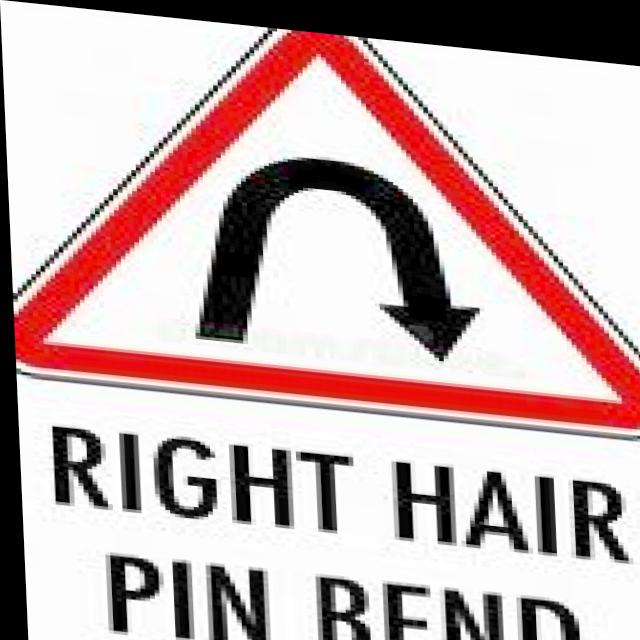RIGHT_HAIR_PIN_BEND: (0, 0, 640, 426)
